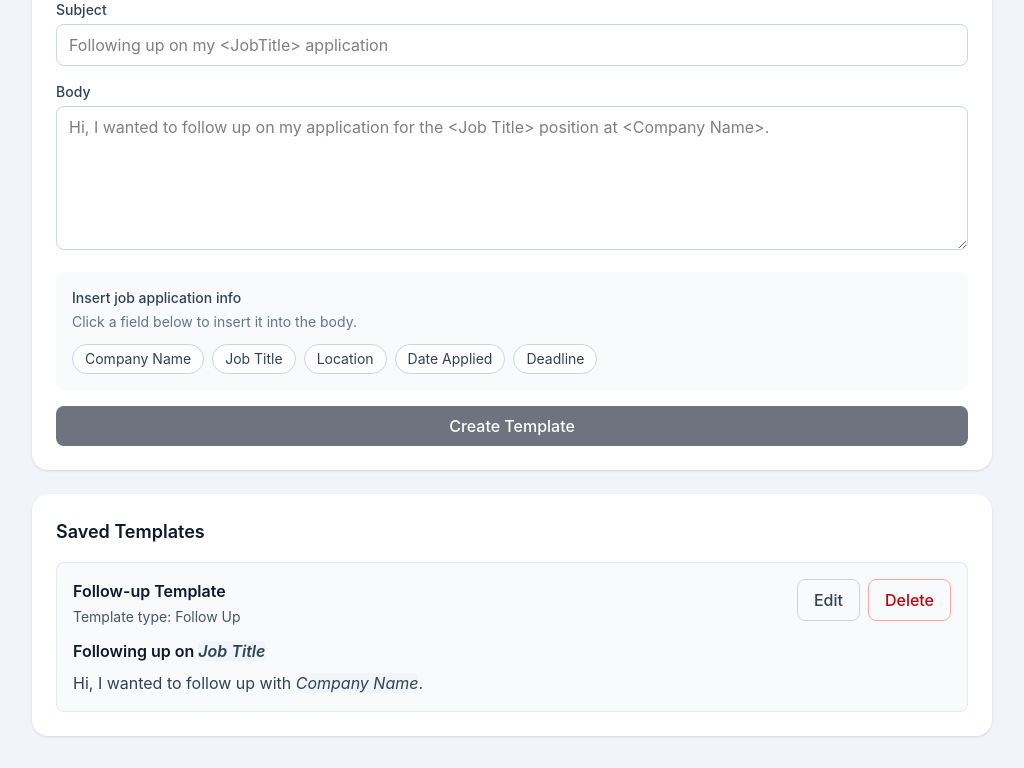
Test: EmailTemplatesPage › opens confirmation dialog before deleting a template
(page scrolled)
Expected: the heading "Follow-up Template" is shown, [73, 581, 226, 601]
Click the button "Delete": coordinates (909, 600) [868, 579, 951, 621]
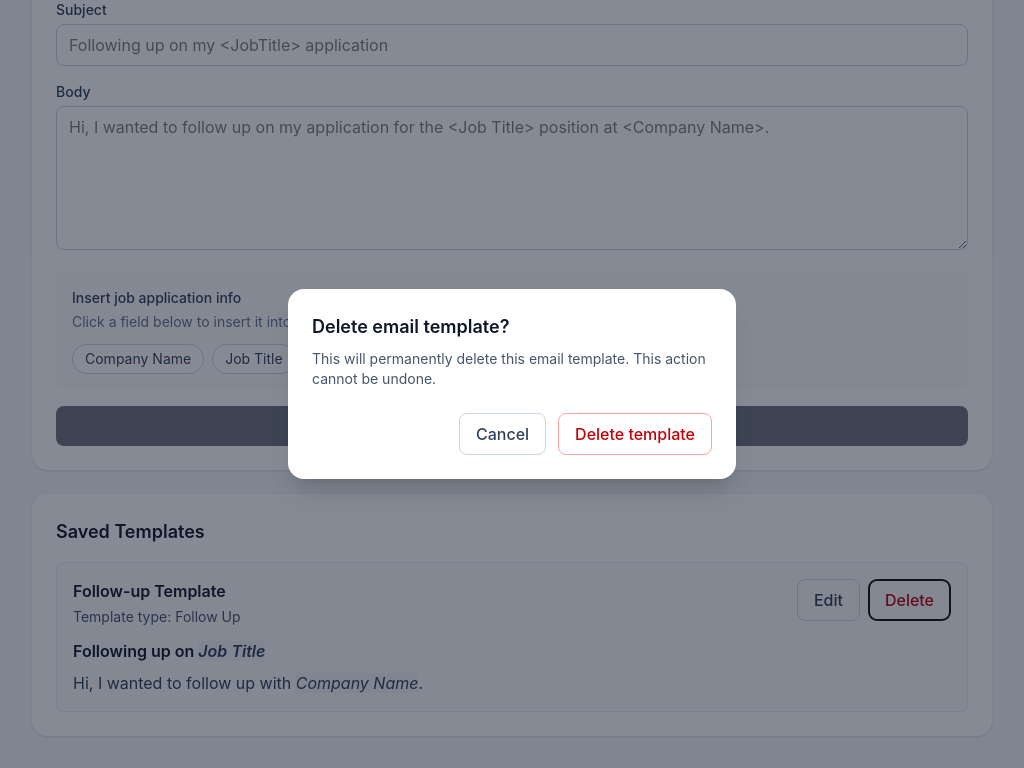
Expected: the heading "Delete email template?" is shown, [312, 316, 509, 337]
Expected: the text "This will permanently delete this email template" is shown, [312, 350, 706, 387]
